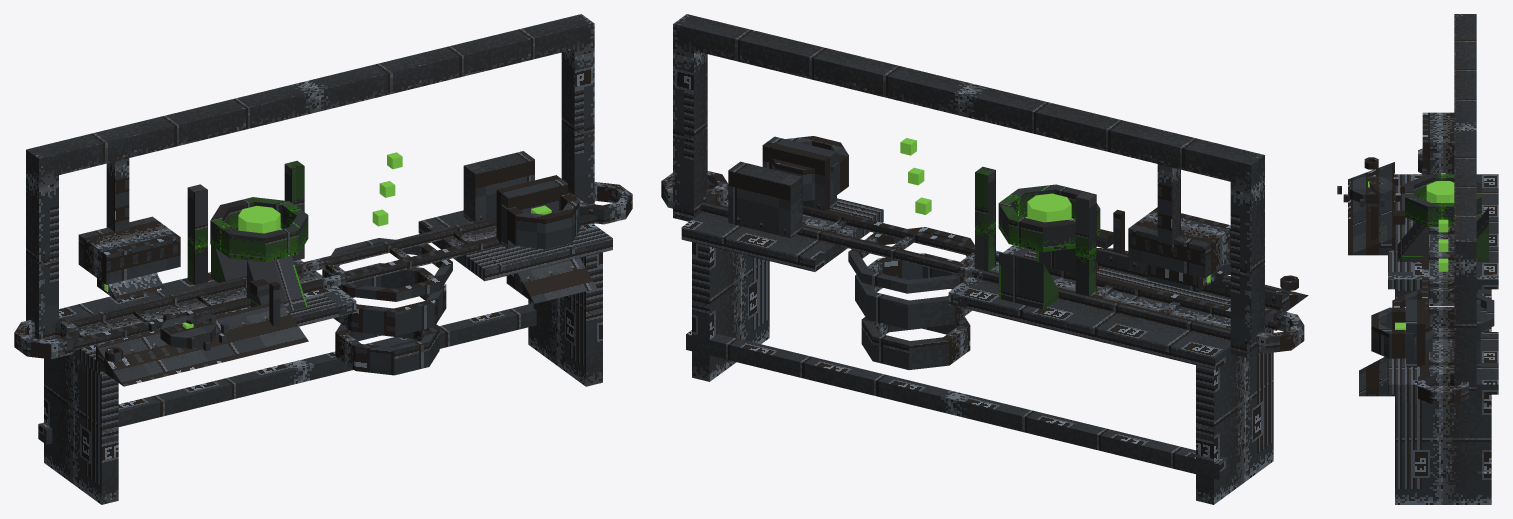
File: forge_bench_working.glb
3 renders of one model, left to right at view 1: azimuth 30°, elevation 25°; view 2: azimuth 150°, elevation 25°; view 3: azimuth 270°, elevation 25°, orthographic. The views are drawn at different scales.
Visible parts, largest first — view 1: forge_bench_working; view 2: forge_bench_working; view 3: forge_bench_working.
Part boxes in pixels (x1,y1,x2,y2): forge_bench_working: [14, 14, 632, 504]; forge_bench_working: [661, 14, 1308, 504]; forge_bench_working: [1337, 14, 1498, 504].
Bounding box in the file's own units: 4.25 × 2.19 × 1.17.
Materials: 4 (3 with a texture image).
